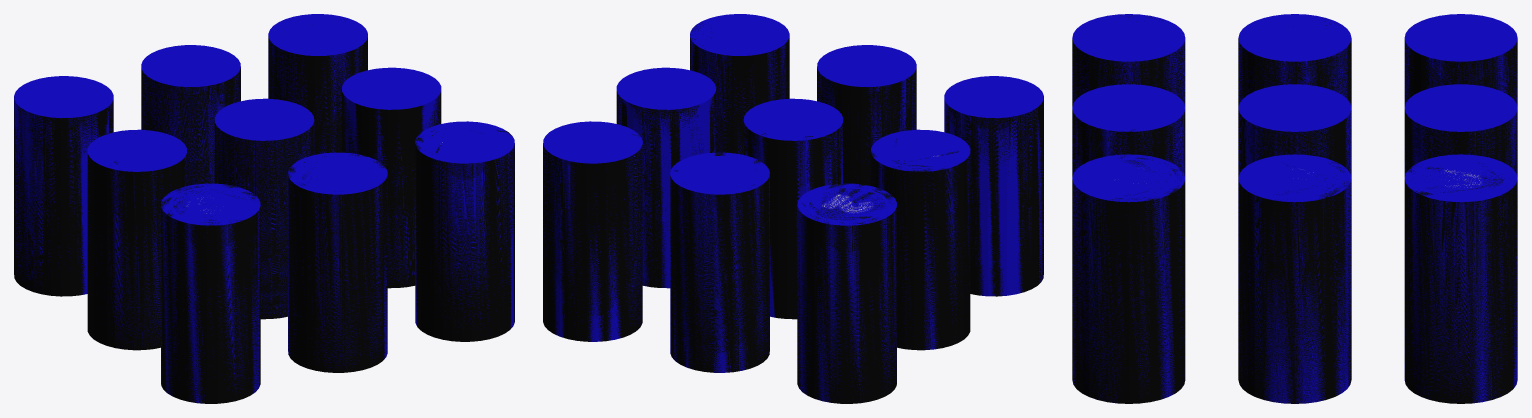
The model's file is KeyPad.fbx.
The picture shows the model from 3 angles, left to right: view 1: azimuth 30°, elevation 25°; view 2: azimuth 150°, elevation 25°; view 3: azimuth 270°, elevation 25°; orthographic projection. The views are drawn at different scales.
Visible parts, largest first — view 1: KeyPad; view 2: KeyPad; view 3: KeyPad.
Boxes of the visible parts, box(x1,y1,x2,y2) form: KeyPad: box(14, 14, 514, 403); KeyPad: box(543, 14, 1043, 403); KeyPad: box(1072, 14, 1517, 403).
Bounding box in the file's own units: 40.18 × 20.09 × 40.18.
11 materials, 1 textured.
